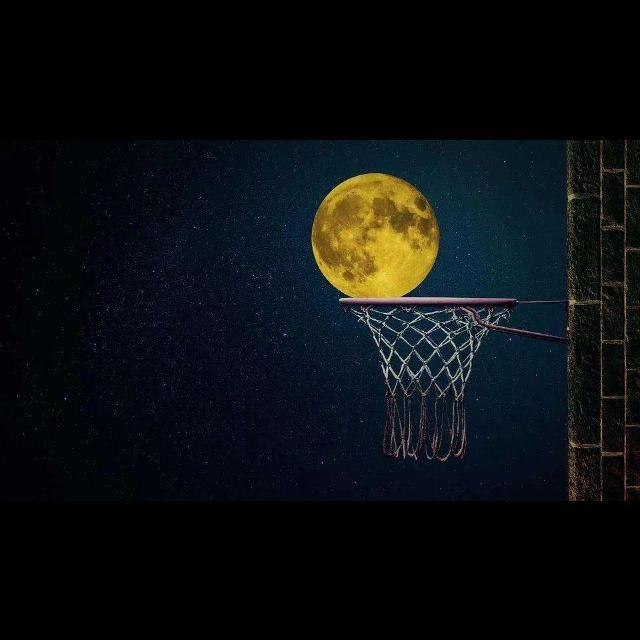rim: (342, 296, 518, 459)
